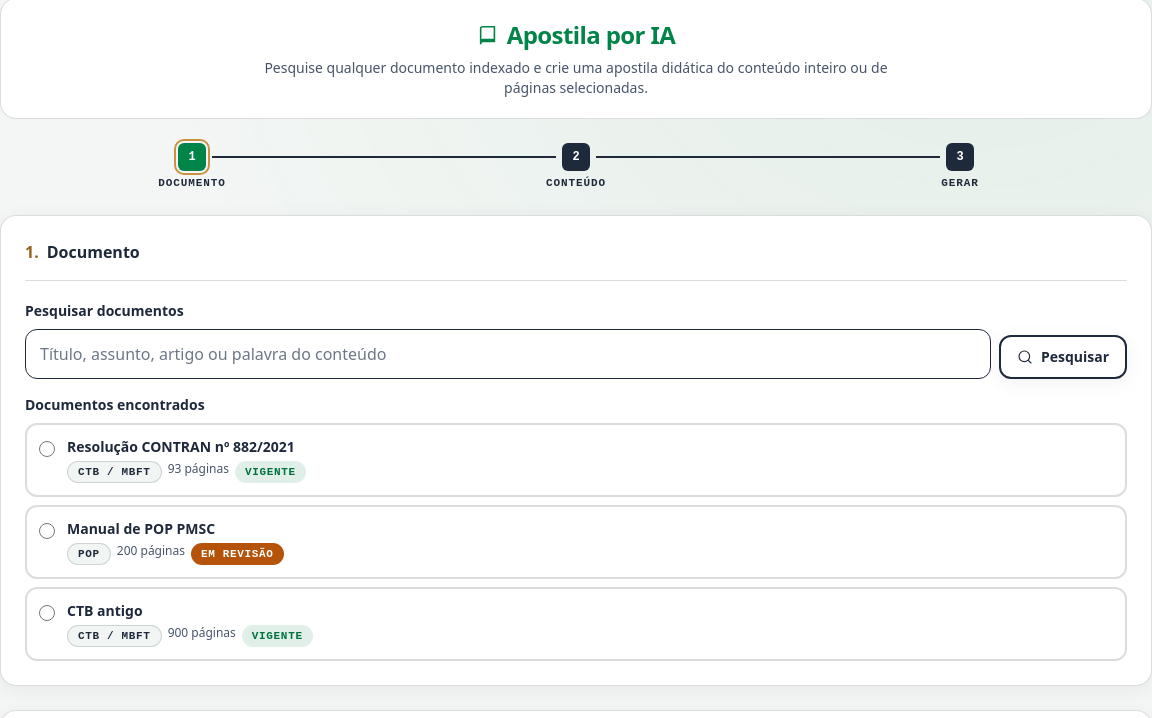
GerarApostila › impede intervalos quando as páginas antigas não foram indexadas
Check: the text "CTB antigo" is shown, box x1=67 y1=601 x2=143 y2=620
Step 1. Click the radio button labelled "CTB antigo" → [47, 613], box x1=39 y1=605 x2=55 y2=621
(page scrolled)
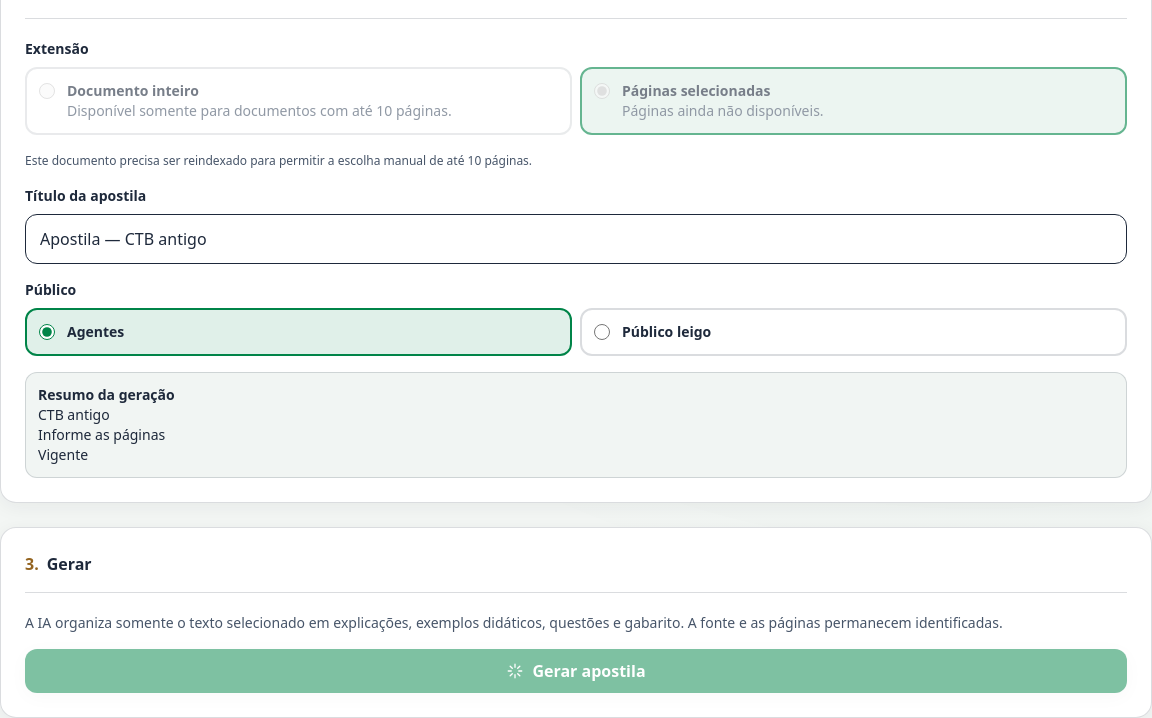
Check: the button "Gerar apostila" is disabled, box x1=25 y1=649 x2=1127 y2=693
Check: the radio button labelled "Documento inteiro" is disabled, box x1=39 y1=83 x2=55 y2=99
